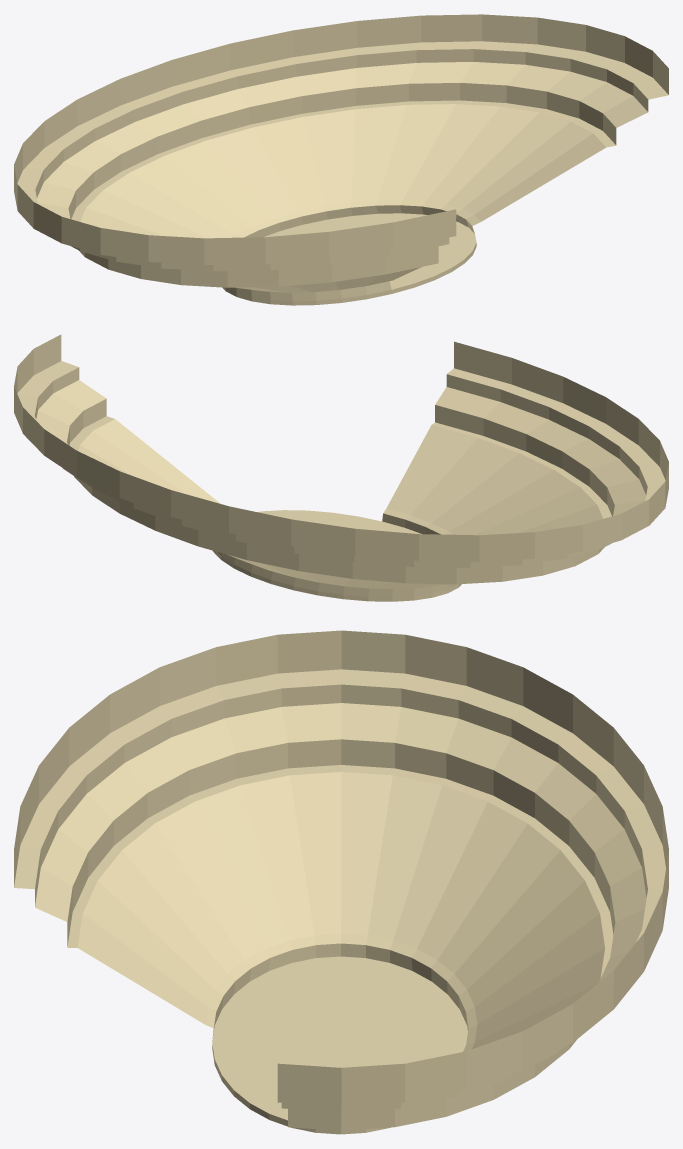
File: restCol.glb
3 renders of one model, top to bottom at view 1: azimuth 30°, elevation 25°; view 2: azimuth 150°, elevation 25°; view 3: azimuth 270°, elevation 25°, orthographic. The views are drawn at different scales.
Visible parts, largest first — view 1: Cylinder.057; view 2: Cylinder.057; view 3: Cylinder.057.
Part boxes in pixels (x1=…): Cylinder.057: x1=14, y1=14, x2=668, y2=305; Cylinder.057: x1=14, y1=334, x2=668, y2=601; Cylinder.057: x1=14, y1=630, x2=668, y2=1134.
Size of the model in its own units: 680 by 143 by 430.
